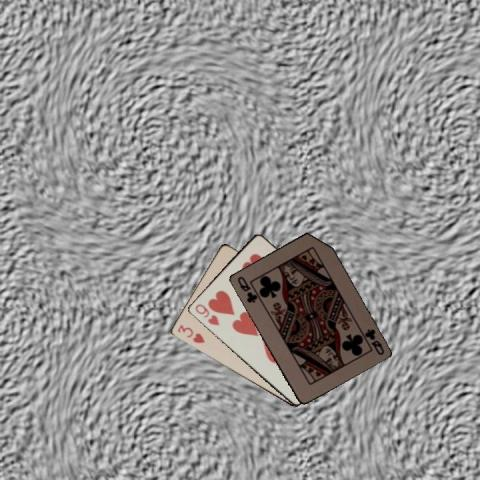3h: (174, 321, 206, 345)
9h: (192, 301, 221, 327)
Qc: (234, 273, 259, 305), (361, 325, 386, 357)
